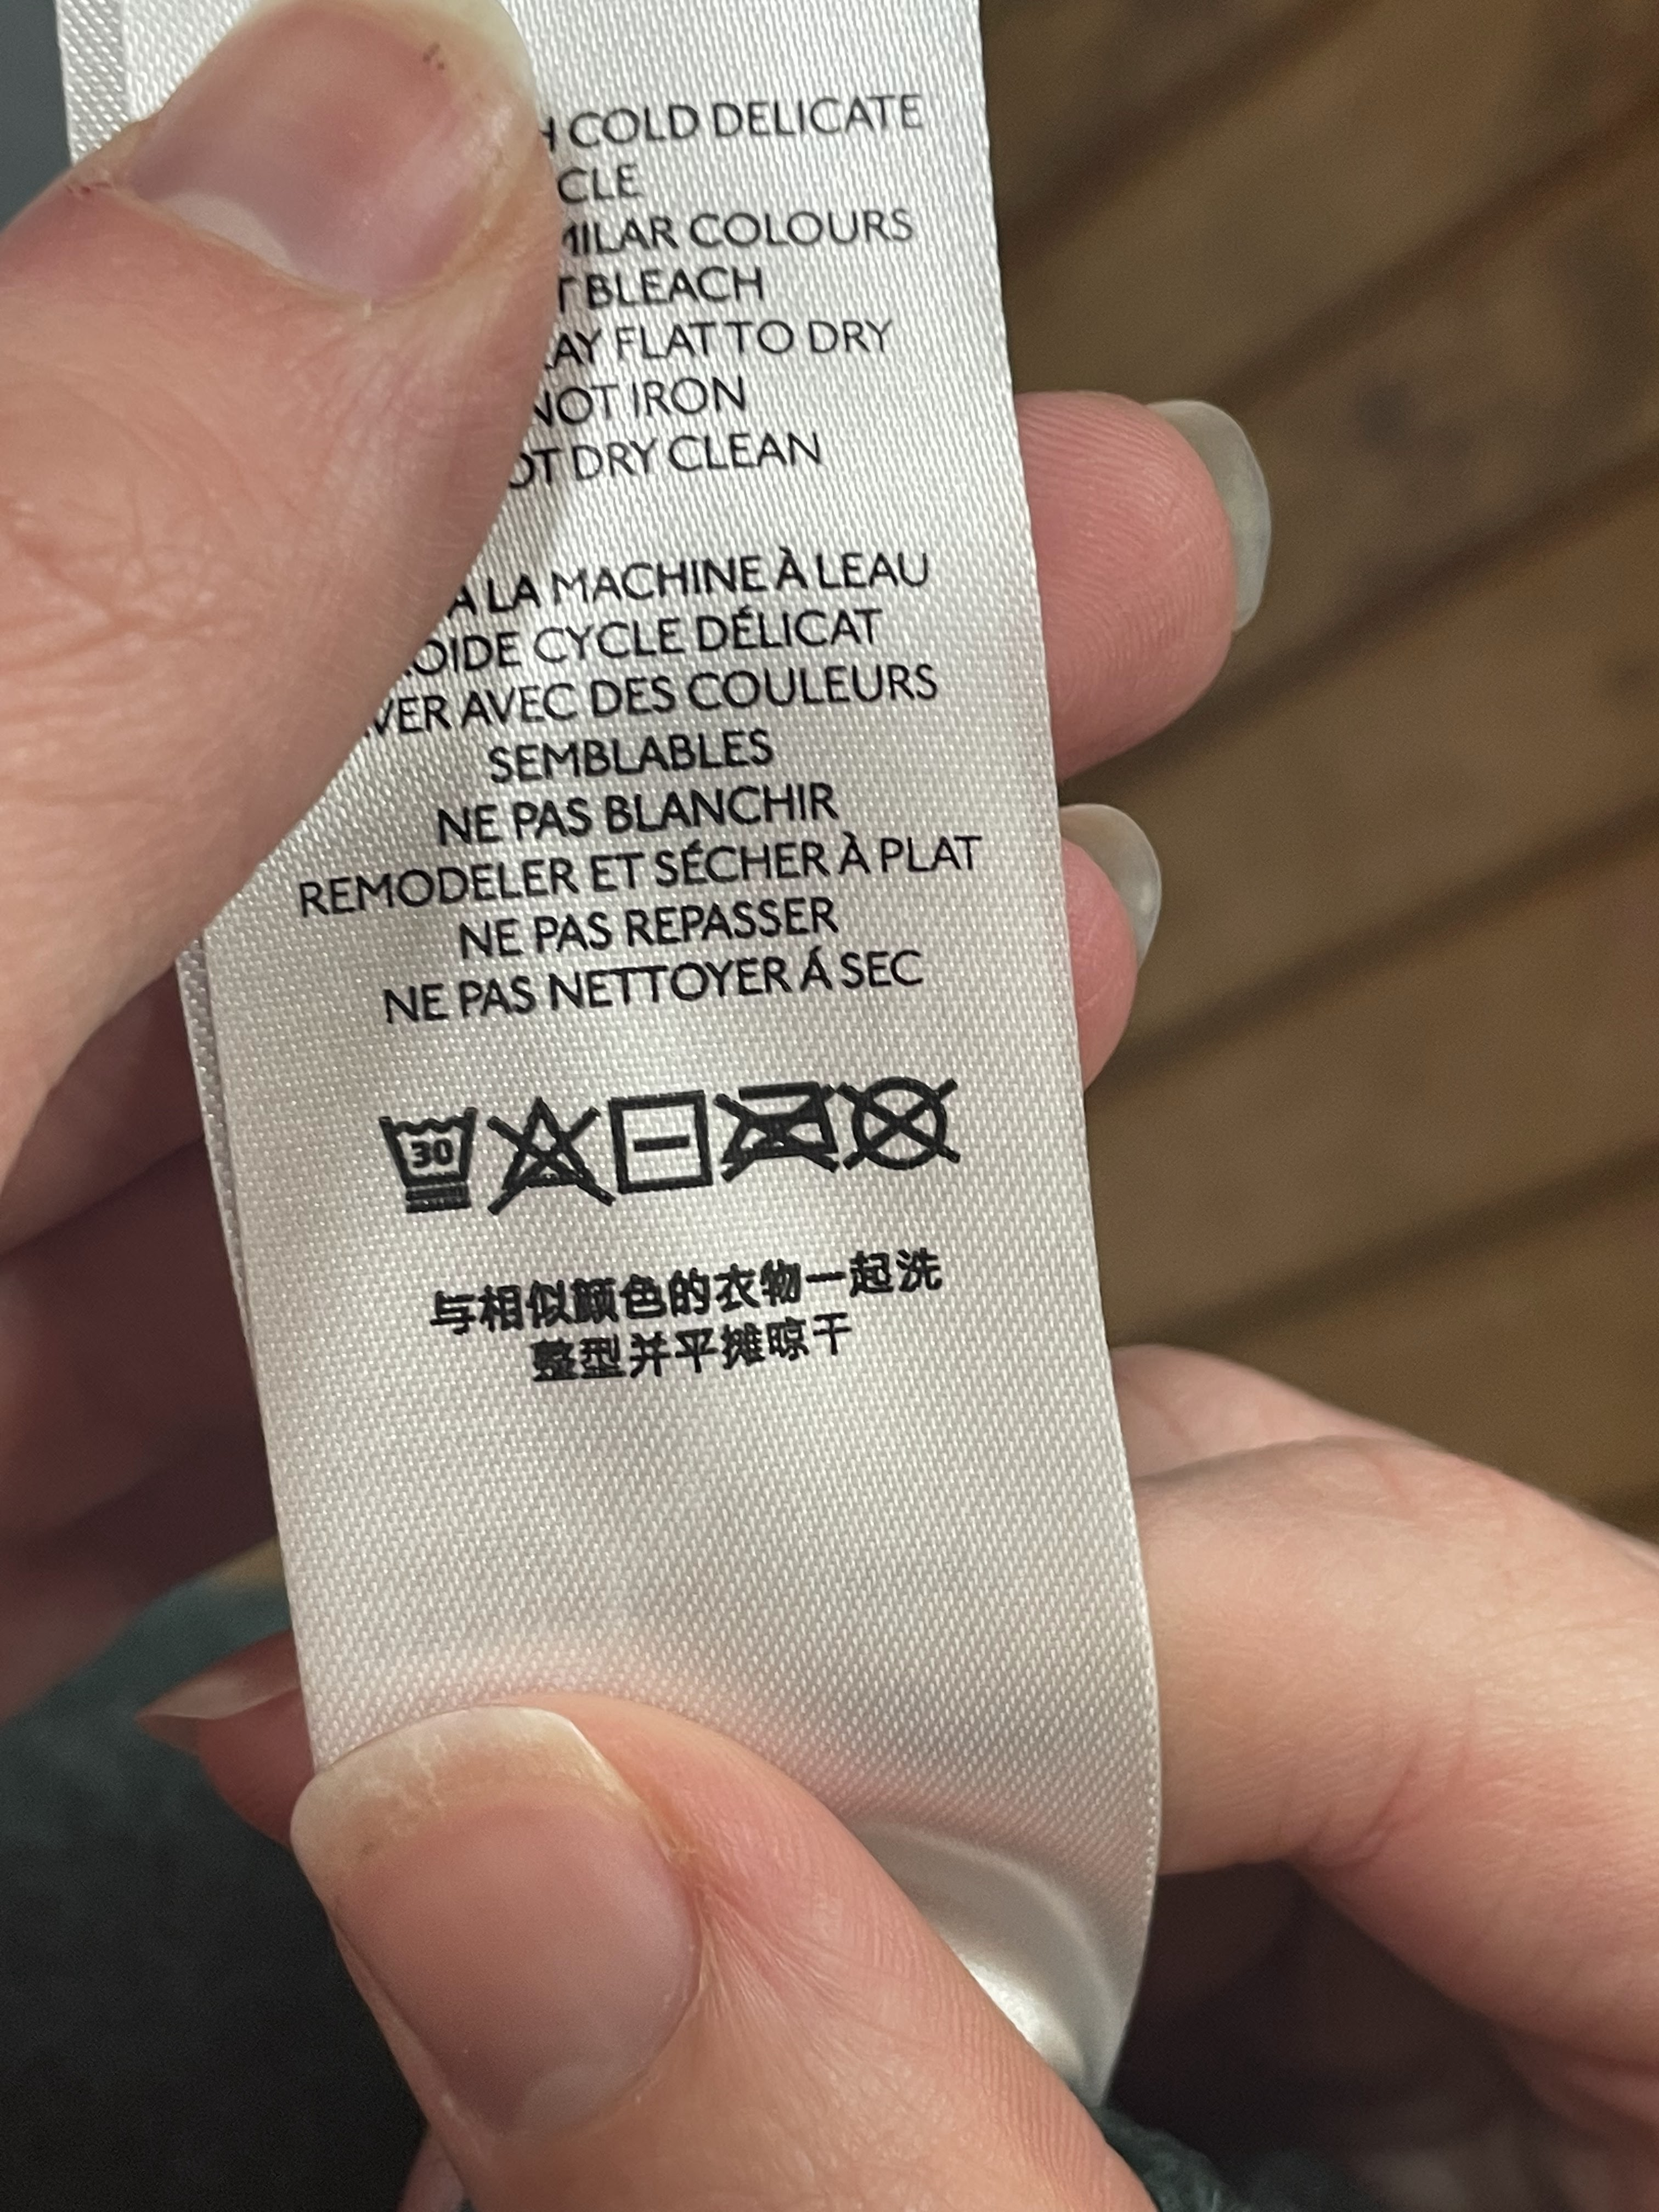do not bleach: (483, 1092, 606, 1226)
do not dry clean: (843, 1064, 1014, 1202)
do not iron: (709, 1076, 854, 1198)
dry flat: (603, 1085, 721, 1214)
wash at or below 30: (340, 1096, 491, 1219)
